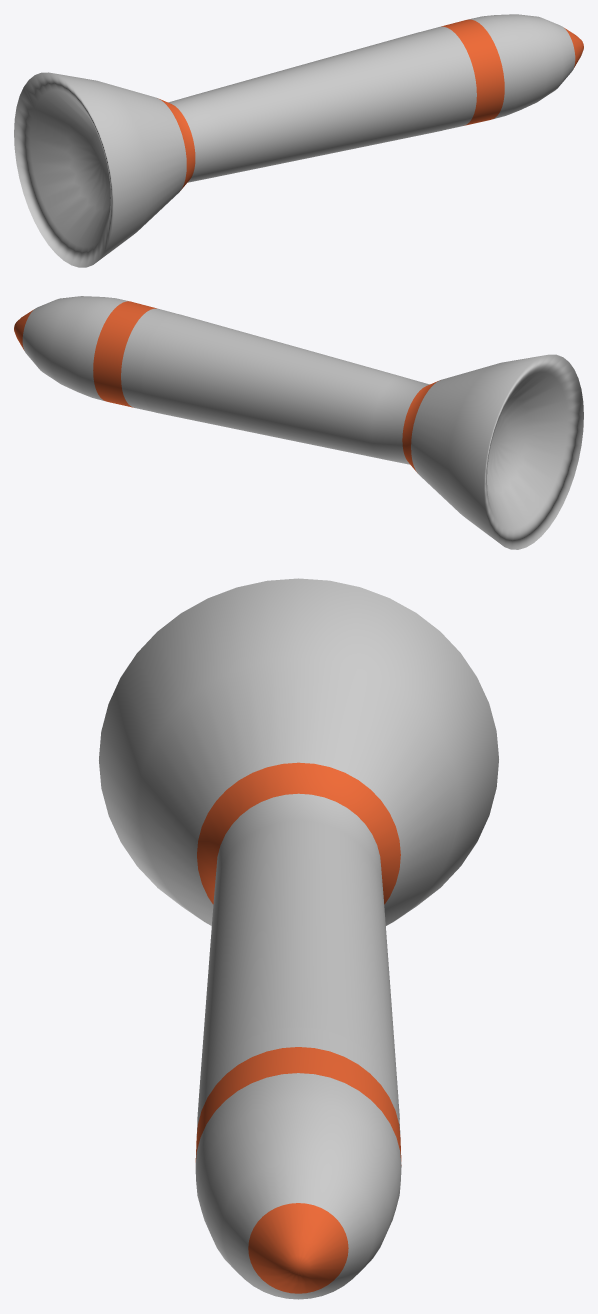
File: Rocket.fbx
3 renders of one model, top to bottom at view 1: azimuth 30°, elevation 25°; view 2: azimuth 150°, elevation 25°; view 3: azimuth 270°, elevation 25°, orthographic. The views are drawn at different scales.
Visible parts, largest first — view 1: pCylinder1; view 2: pCylinder1; view 3: pCylinder1.
Part boxes in pixels (box(x1,y1,x2,y2)): pCylinder1: box(14, 14, 583, 267); pCylinder1: box(14, 296, 583, 549); pCylinder1: box(99, 578, 498, 1299).
Bounding box in the file's own units: 20.65 × 6.91 × 6.91.
